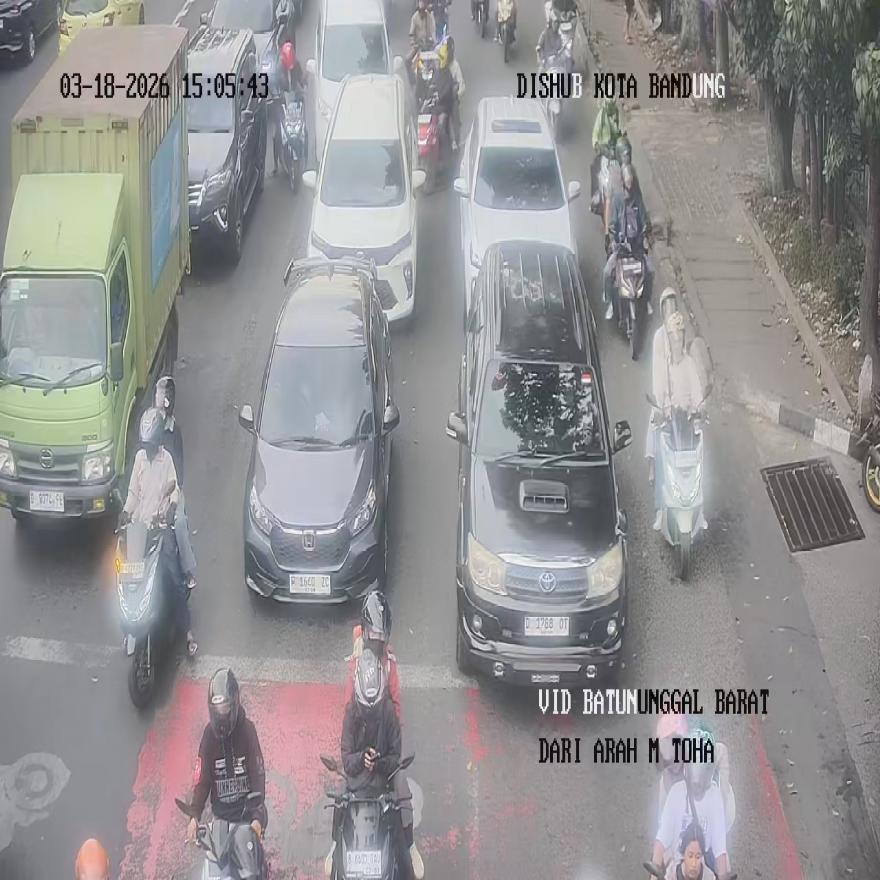Mobil: (0, 24, 190, 518), (447, 241, 630, 684), (238, 256, 399, 602), (302, 71, 423, 324), (454, 96, 580, 328), (184, 24, 265, 260), (305, 0, 392, 165), (57, 0, 144, 55)
Motor: (113, 504, 184, 708), (645, 386, 711, 581), (321, 753, 415, 880), (175, 791, 265, 880), (414, 52, 458, 194), (605, 226, 647, 359), (590, 136, 630, 234), (273, 92, 307, 193), (541, 48, 572, 138), (497, 3, 516, 62), (470, 0, 488, 38)
